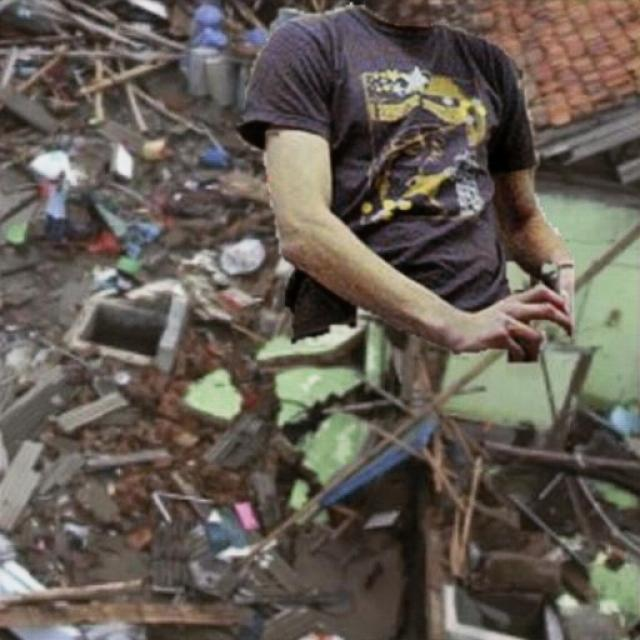Person in Rubble: (237, 2, 572, 362)
